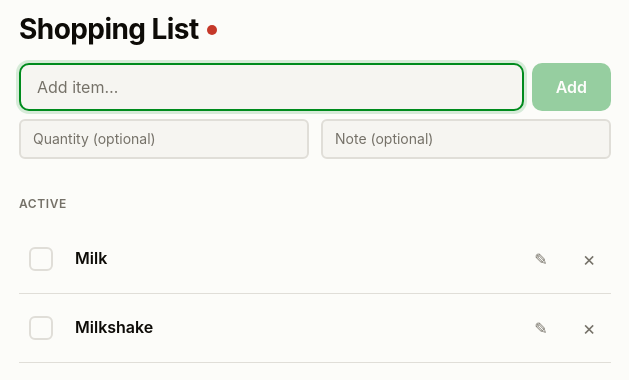
Test case: Task 2 — SuggestionList component › renders listbox with correct options and highlight
Type "mi" into the field named "item name" at point(271, 87), box [19,63,524,111]
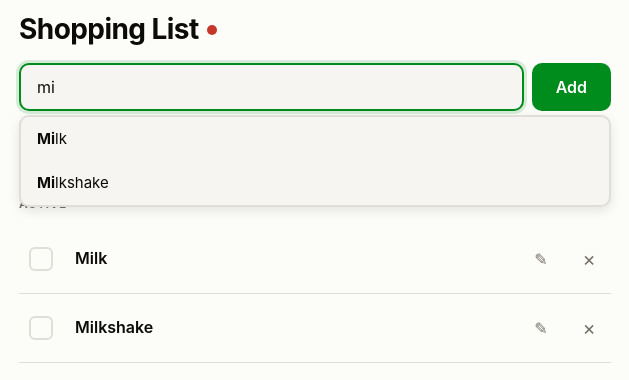
Now the list "Milk Milkshake" is shown, box [19,115,611,207]
Now the number of options is 2, box [21,117,609,161]; [21,161,609,205]
Now the 1st text "Mi" is shown, box [37,129,55,148]
